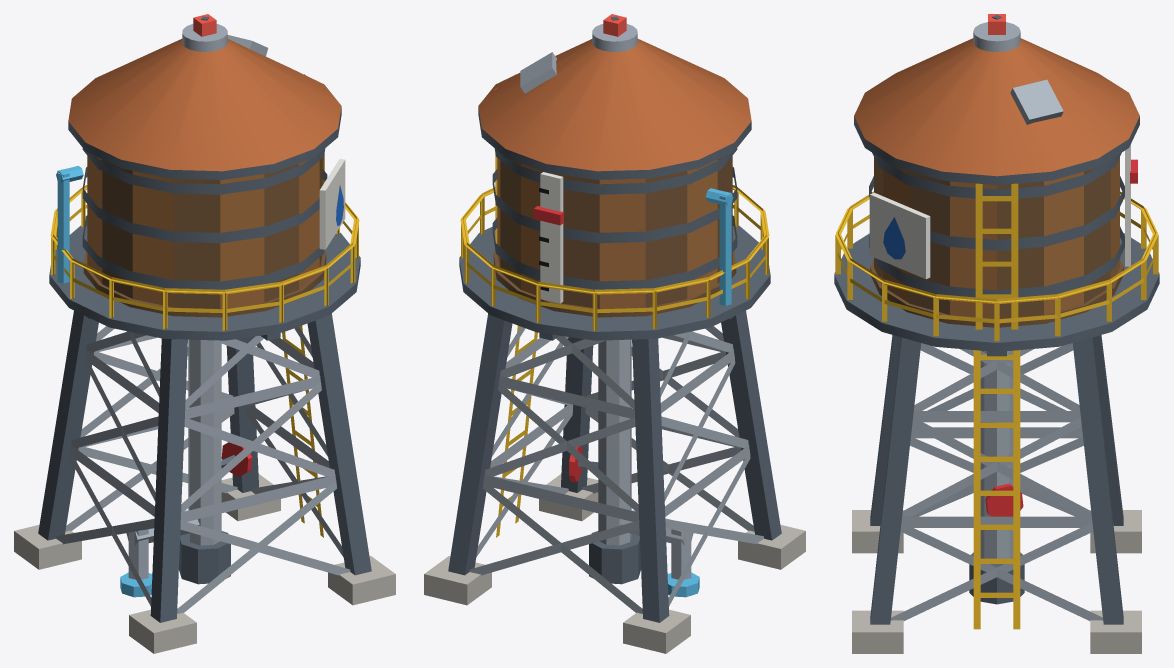
File: water_tower.glb
The picture shows the model from 3 angles, left to right: view 1: azimuth 30°, elevation 25°; view 2: azimuth 150°, elevation 25°; view 3: azimuth 270°, elevation 25°; orthographic projection. The views are drawn at different scales.
Visible parts, largest first — view 1: Body; view 2: Body; view 3: Body.
Part boxes in pixels (x1,y1,x2,y2): Body: (14, 14, 395, 653); Body: (424, 14, 805, 653); Body: (834, 14, 1159, 653).
Size of the model in its own units: 0.82 by 1.6 by 0.82.
